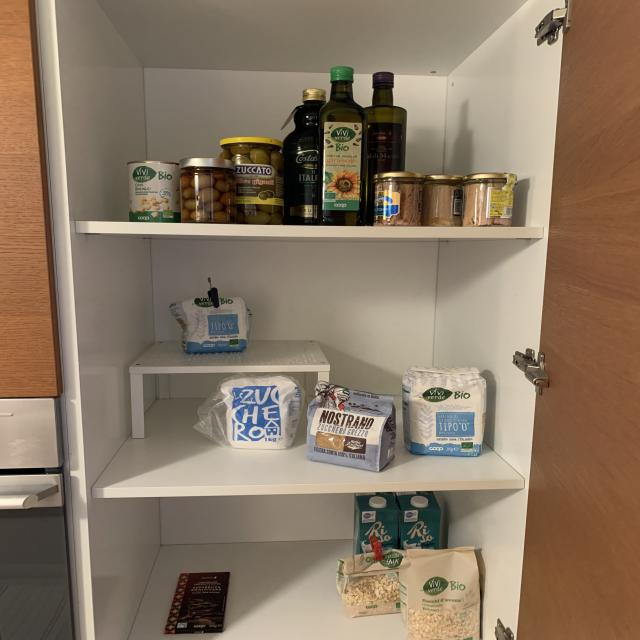chickpeas: (127, 161, 180, 223)
chocolate: (166, 571, 230, 634)
flour: (400, 366, 484, 457), (170, 295, 250, 353)
milk: (354, 491, 398, 553), (400, 491, 441, 548)
oats: (402, 548, 481, 640), (335, 554, 402, 618)
oil: (321, 67, 365, 225), (366, 72, 405, 225), (283, 88, 326, 224)
olives: (218, 143, 284, 224), (180, 168, 235, 223)
sugar: (304, 382, 398, 474), (224, 377, 298, 448)
tuna_fish: (465, 178, 513, 226), (374, 178, 421, 225), (423, 180, 464, 226)
